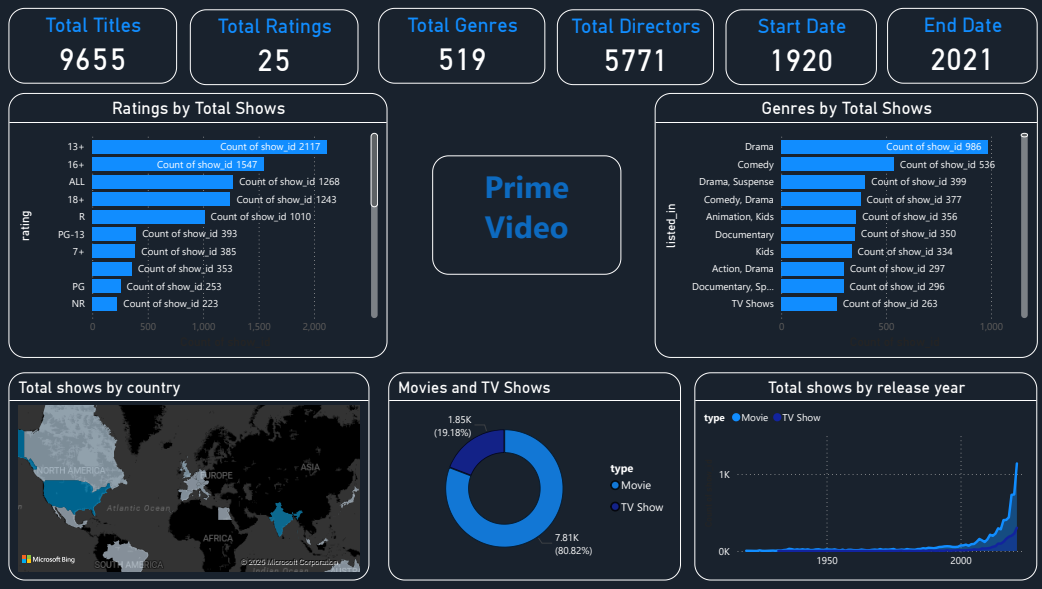

Layout of this report page (visuals, bound fields, positions):
{"tool":"powerbi","page":{"name":"Page 1","canvas":[1280,720],"ordinal":0},"visuals":[{"type":"filledMap","title":"Total shows by country","fields":{"Category":["amazon_prime_titles(1).country"]},"box":[10.9,454.8,439.2,253.2],"z":0},{"type":"donutChart","title":"Movies and TV Shows","fields":{"Category":["amazon_prime_titles(1).type"],"Y":["CountNonNull(amazon_prime_titles(1).show_id)"]},"box":[472,454.8,356.4,253.2],"z":1000},{"type":"areaChart","title":"Total shows by release year ","fields":{"Series":["amazon_prime_titles(1).type"],"Category":["amazon_prime_titles(1).release_year"],"Y":["CountNonNull(amazon_prime_titles(1).show_id)"]},"box":[845.6,454.8,417.3,253.2],"z":2000},{"type":"barChart","title":"Ratings by Total Shows","fields":{"Category":["amazon_prime_titles(1).rating"],"Y":["Count(amazon_prime_titles(1).show_id)"]},"box":[10.9,115.7,461.1,322],"z":3000},{"type":"barChart","title":"Genres by Total Shows","fields":{"Y":["Count(amazon_prime_titles(1).show_id)"],"Category":["amazon_prime_titles(1).listed_in"]},"box":[797.1,115.7,465.8,322],"z":4000},{"type":"card","title":"Total Titles","fields":{"Values":["Count(amazon_prime_titles(1).title)"]},"box":[10.9,12.5,204.8,92.2],"z":5000},{"type":"card","title":"Total Ratings","fields":{"Values":["Count(amazon_prime_titles(1).rating)"]},"box":[231.3,14.1,204.8,92.2],"z":6000},{"type":"card","title":"Total Genres","fields":{"Values":["Count(amazon_prime_titles(1).listed_in)"]},"box":[461.1,12.5,203.2,92.2],"z":7000},{"type":"card","title":"Total Directors","fields":{"Values":["Count(amazon_prime_titles(1).director)"]},"box":[678.3,14.1,190.7,92.2],"z":8000},{"type":"card","title":"Start Date","fields":{"Values":["Min(amazon_prime_titles(1).release_year)"]},"box":[883.1,14.1,184.4,92.2],"z":9000},{"type":"card","title":"End Date","fields":{"Values":["Max(amazon_prime_titles(1).release_year)"]},"box":[1080,12.5,182.9,92.2],"z":10000},{"type":"textbox","box":[525.2,190.7,229.8,145.4],"z":11000}]}

Visuals, with their boxes in screenshot pixels (x1, y1, x2, y2), scaled from the page's 1280x720 canvas onto the 1042x589 screenshot:
"Total shows by country" filledMap: bbox=[9, 372, 366, 579]
"Movies and TV Shows" donutChart: bbox=[384, 372, 674, 579]
"Total shows by release year " areaChart: bbox=[688, 372, 1028, 579]
"Ratings by Total Shows" barChart: bbox=[9, 95, 384, 358]
"Genres by Total Shows" barChart: bbox=[649, 95, 1028, 358]
"Total Titles" card: bbox=[9, 10, 176, 86]
"Total Ratings" card: bbox=[188, 12, 355, 87]
"Total Genres" card: bbox=[375, 10, 541, 86]
"Total Directors" card: bbox=[552, 12, 707, 87]
"Start Date" card: bbox=[719, 12, 869, 87]
"End Date" card: bbox=[879, 10, 1028, 86]
textbox: bbox=[428, 156, 615, 275]
